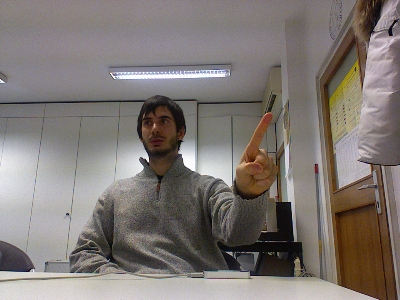食指: (234, 111, 279, 197)
